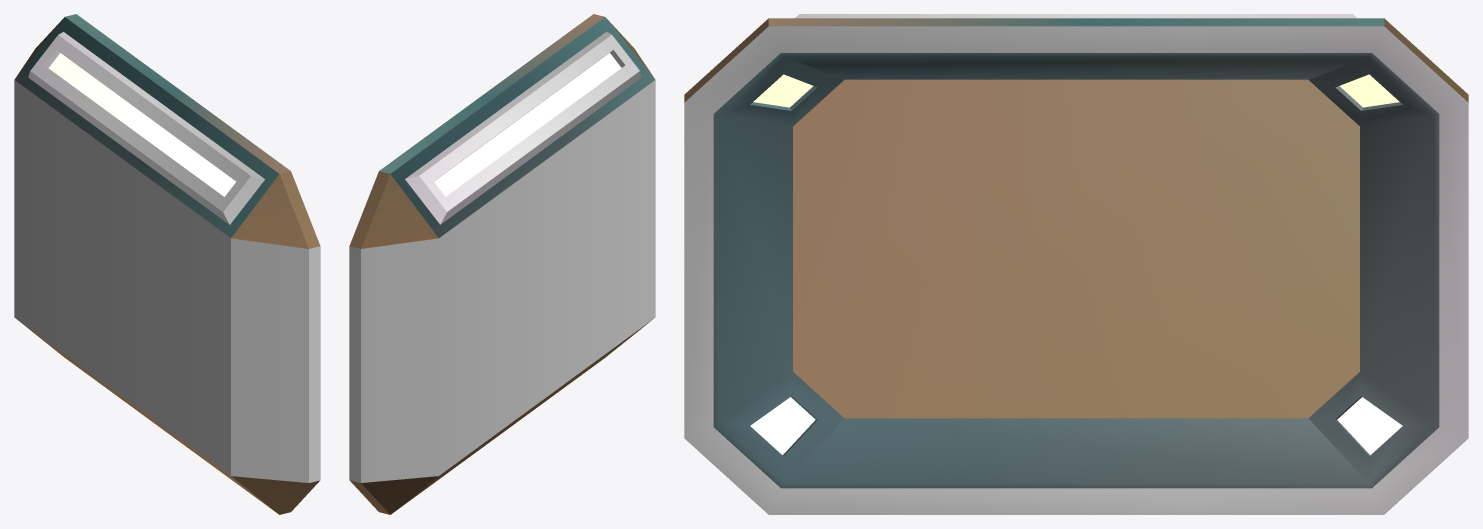
Rendered from C_Cap.fbx.
3 renders of one model, left to right at view 1: azimuth 30°, elevation 25°; view 2: azimuth 150°, elevation 25°; view 3: azimuth 270°, elevation 25°, orthographic. The views are drawn at different scales.
Parts seen in each view (by area): view 1: C_Cap; view 2: C_Cap; view 3: C_Cap.
Boxes of the visible parts, x1,y1,x2,y2 form: C_Cap: (14,14,320,514); C_Cap: (349,14,655,514); C_Cap: (684,14,1468,514).
Size of the model in its own units: 61.72 by 330 by 480.
